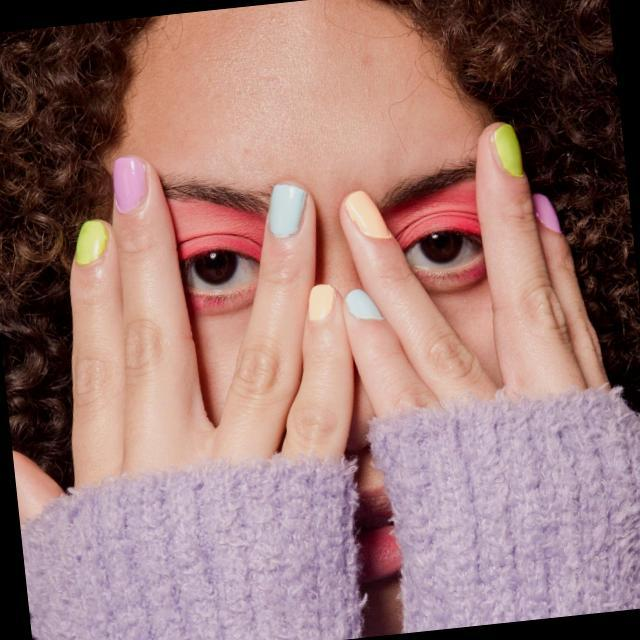7_mano_rostro: (74, 121, 604, 588)
